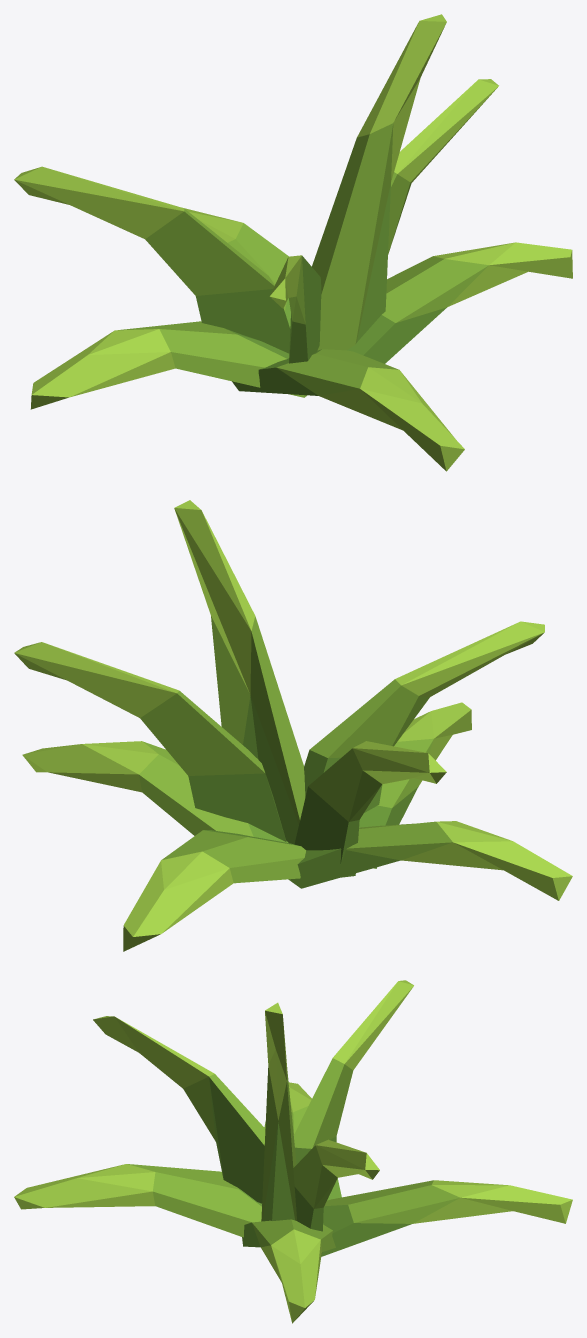
The model's file is EA_M_Env_Grass_01a.fbx.
The picture shows the model from 3 angles, top to bottom: view 1: azimuth 30°, elevation 25°; view 2: azimuth 150°, elevation 25°; view 3: azimuth 270°, elevation 25°; orthographic projection. The views are drawn at different scales.
Parts seen in each view (by area): view 1: EA_M_Env_Grass_01a_LOD0; view 2: EA_M_Env_Grass_01a_LOD0; view 3: EA_M_Env_Grass_01a_LOD0.
Boxes of the visible parts, <box> form: EA_M_Env_Grass_01a_LOD0: <box>14,14,572,471</box>; EA_M_Env_Grass_01a_LOD0: <box>14,500,572,951</box>; EA_M_Env_Grass_01a_LOD0: <box>14,980,572,1323</box>.
Size of what is drawn, in the model's own units: 0.5671 by 0.3216 by 0.5899.
